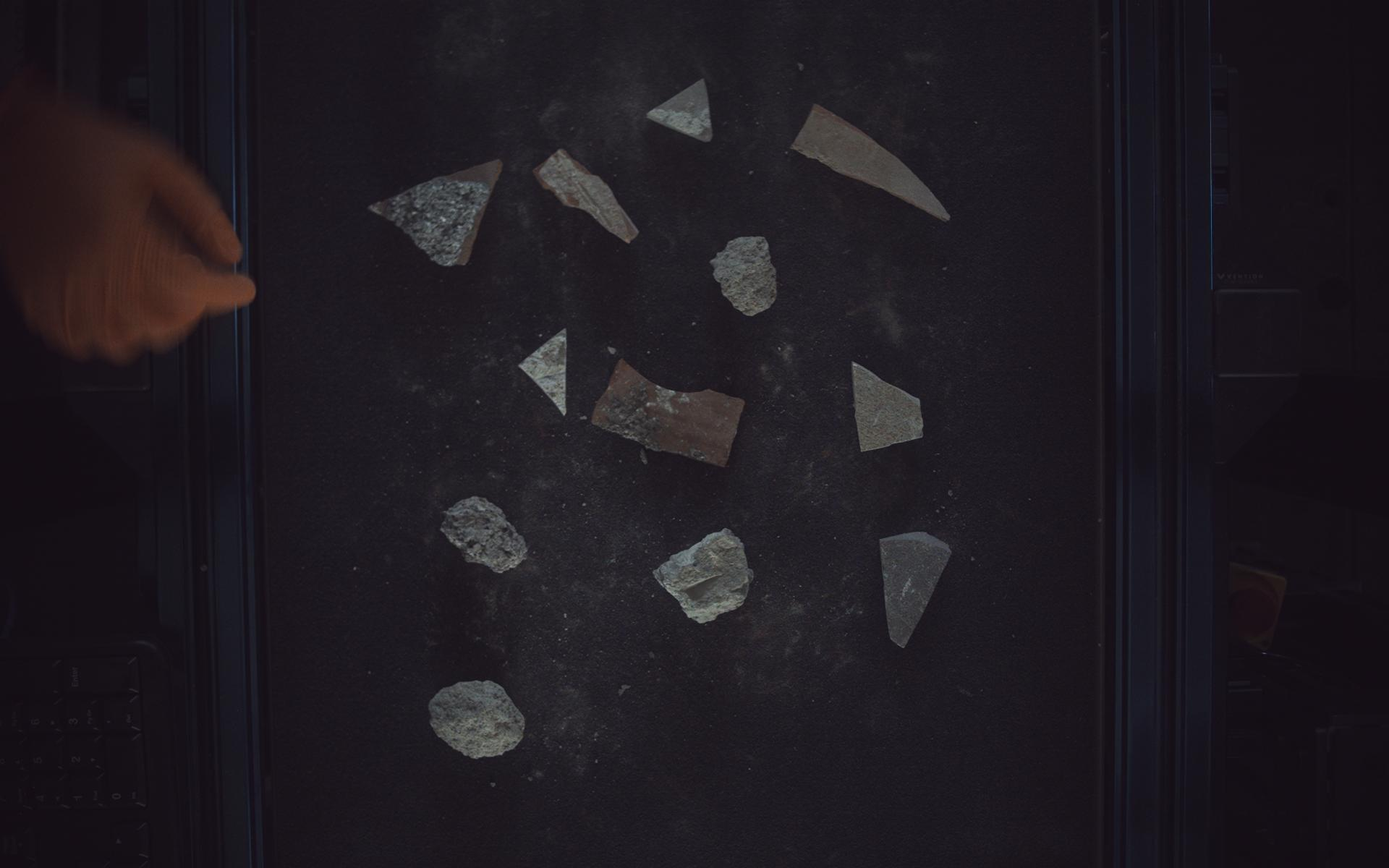brick: (793, 105, 951, 220), (592, 359, 745, 467), (368, 159, 502, 266), (534, 148, 639, 242)
concrete: (654, 529, 755, 624), (428, 682, 524, 760), (441, 496, 527, 574), (711, 236, 778, 316)
tile: (882, 532, 953, 649), (854, 362, 924, 451), (647, 77, 713, 141), (519, 329, 568, 414)
